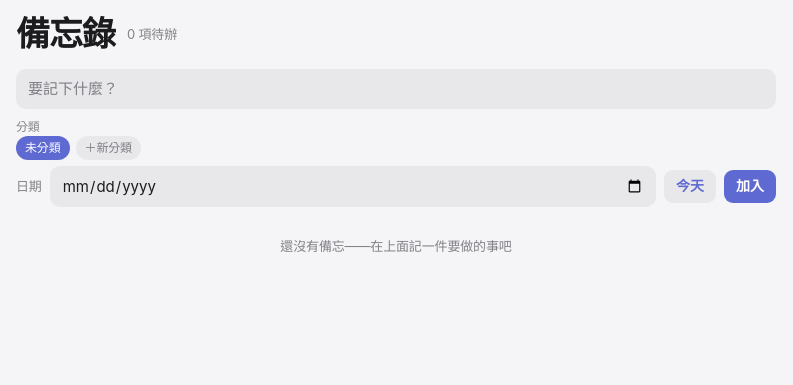
備忘錄新增失敗復原 › POST 已提交但回應遺失時重讀確認，不重送也不保留草稿
Type "交數學作業" into the field with placeholder "要記下什麼？". click: (396, 89)
box: [16, 69, 776, 109]
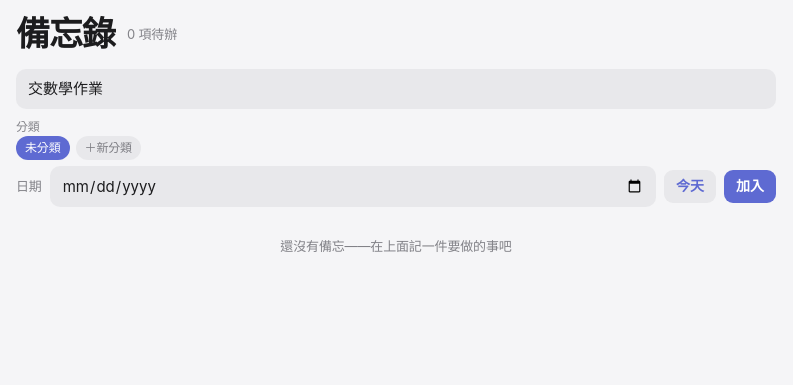
Click the button "加入". click: (750, 187)
box: [724, 170, 776, 203]
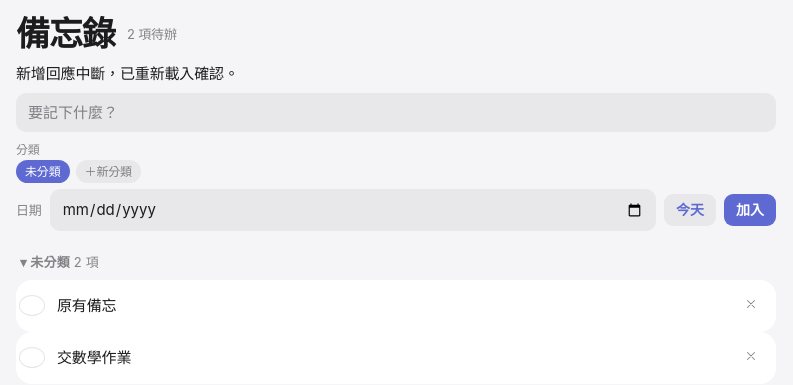
Now the message shows "已重新載入確認", box [16, 64, 239, 83]
Now the field with placeholder "要記下什麼？" is empty, box [16, 92, 776, 132]
Now the text "交數學作業" is shown, box [57, 348, 131, 367]
